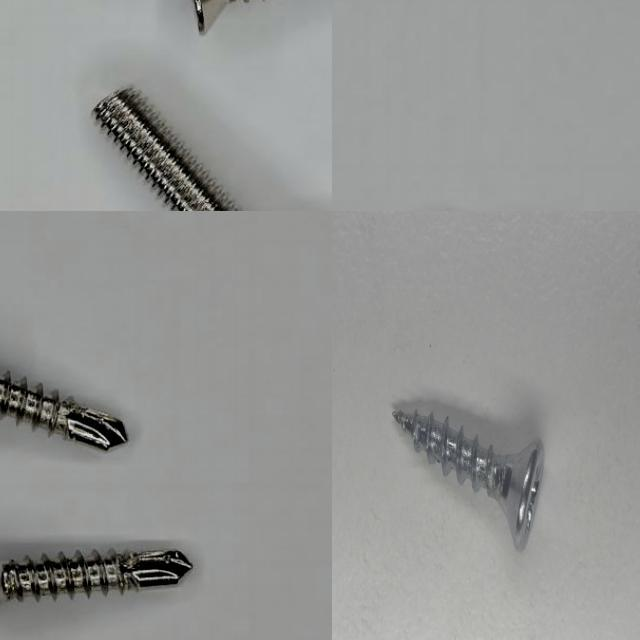Screw: (393, 410, 544, 550), (93, 89, 237, 211), (0, 550, 194, 606), (0, 373, 128, 449)
